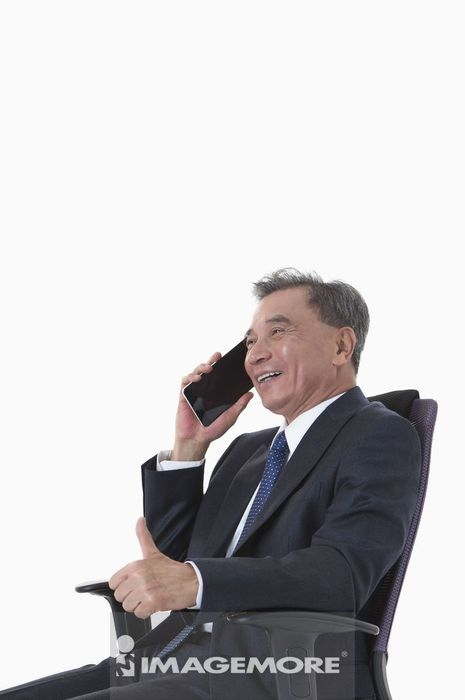phone: (184, 335, 252, 428)
talk: (171, 309, 308, 455)
